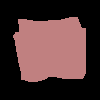shorts: (12, 16, 86, 82)
